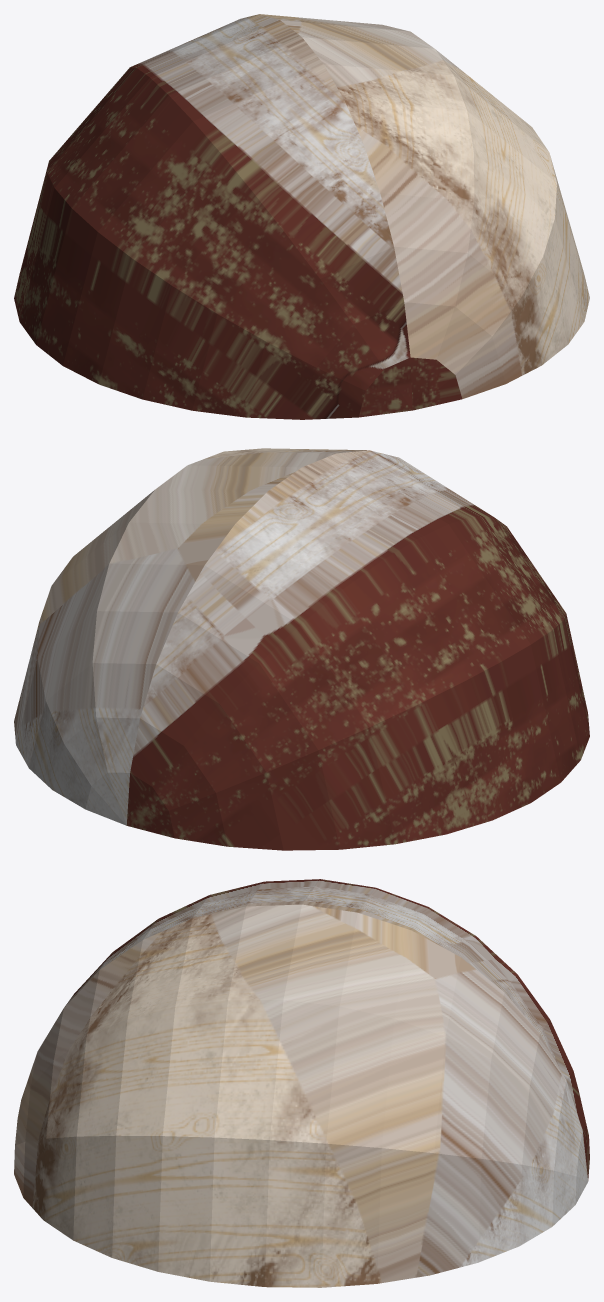
The model's file is bijou_002.fbx.
3 renders of one model, top to bottom at view 1: azimuth 30°, elevation 25°; view 2: azimuth 150°, elevation 25°; view 3: azimuth 270°, elevation 25°, orthographic.
Parts seen in each view (by area): view 1: bijou.002; view 2: bijou.002; view 3: bijou.002.
Part boxes in pixels (left/top/right/bottom): bijou.002: left=14, top=14, right=589, bottom=419; bijou.002: left=14, top=448, right=589, bottom=850; bijou.002: left=14, top=879, right=589, bottom=1287.
Bounding box in the file's own units: 8.99 × 4.51 × 8.99.
